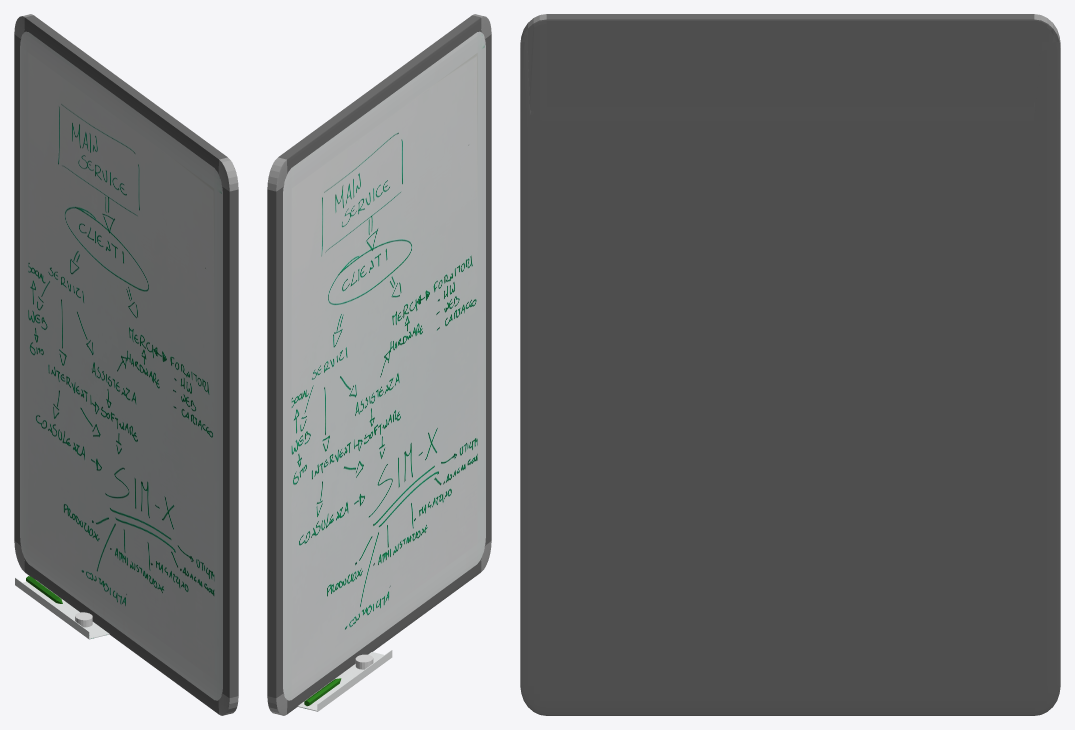
File: paretevetratalavagna.gltf
The picture shows the model from 3 angles, left to right: view 1: azimuth 30°, elevation 25°; view 2: azimuth 150°, elevation 25°; view 3: azimuth 270°, elevation 25°; orthographic projection. The views are drawn at different scales.
Parts seen in each view (by area): view 1: Lavagna Grande; view 2: Lavagna Grande; view 3: Lavagna Grande.
Part boxes in pixels (x1=…): Lavagna Grande: x1=14, y1=14, x2=238, y2=715; Lavagna Grande: x1=267, y1=14, x2=491, y2=715; Lavagna Grande: x1=520, y1=14, x2=1060, y2=715.
Bounding box in the file's own units: 0.0507 × 0.8958 × 0.63.
4 materials, 1 textured.
